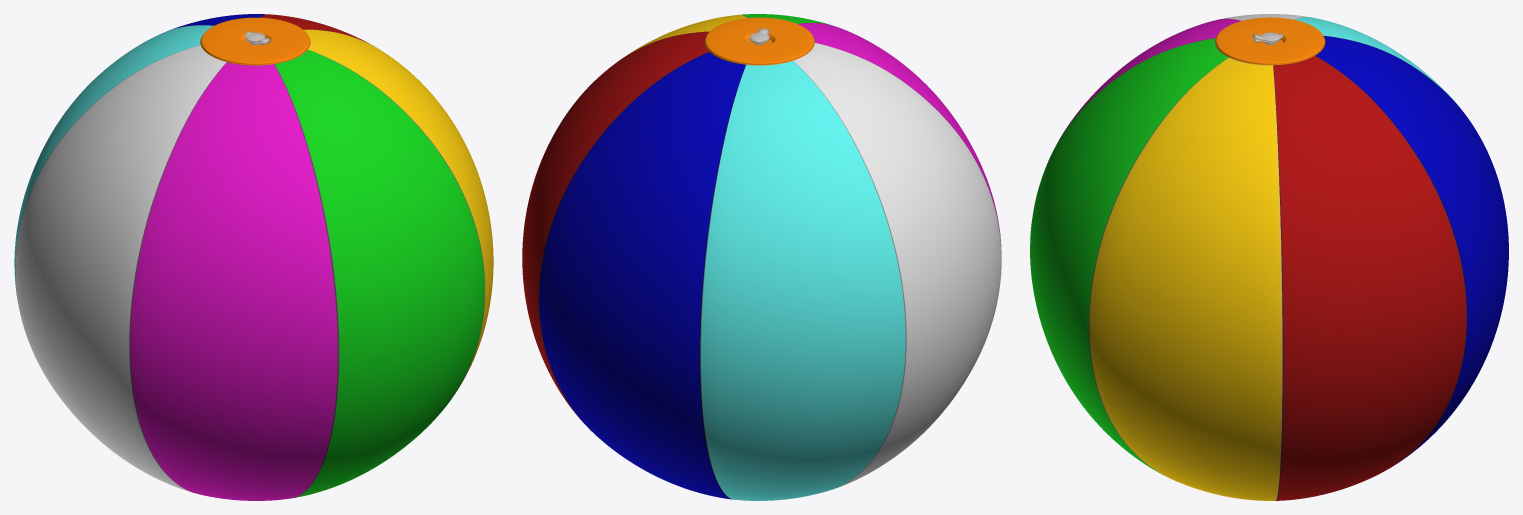
The model's file is Ball.glb.
The picture shows the model from 3 angles, left to right: view 1: azimuth 30°, elevation 25°; view 2: azimuth 150°, elevation 25°; view 3: azimuth 270°, elevation 25°; orthographic projection.
Visible parts, largest first — view 1: Beach_Ball.1; view 2: Beach_Ball.1; view 3: Beach_Ball.1.
Part boxes in pixels (bbox=[...]): Beach_Ball.1: bbox=[14, 14, 493, 500]; Beach_Ball.1: bbox=[522, 14, 1001, 500]; Beach_Ball.1: bbox=[1030, 14, 1508, 500].
Size of the model in its own units: 30.48 by 30.96 by 30.45.
2 materials, 1 textured.
